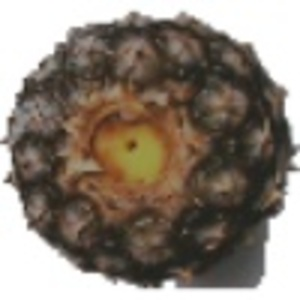abacaxi: (6, 8, 291, 275)
